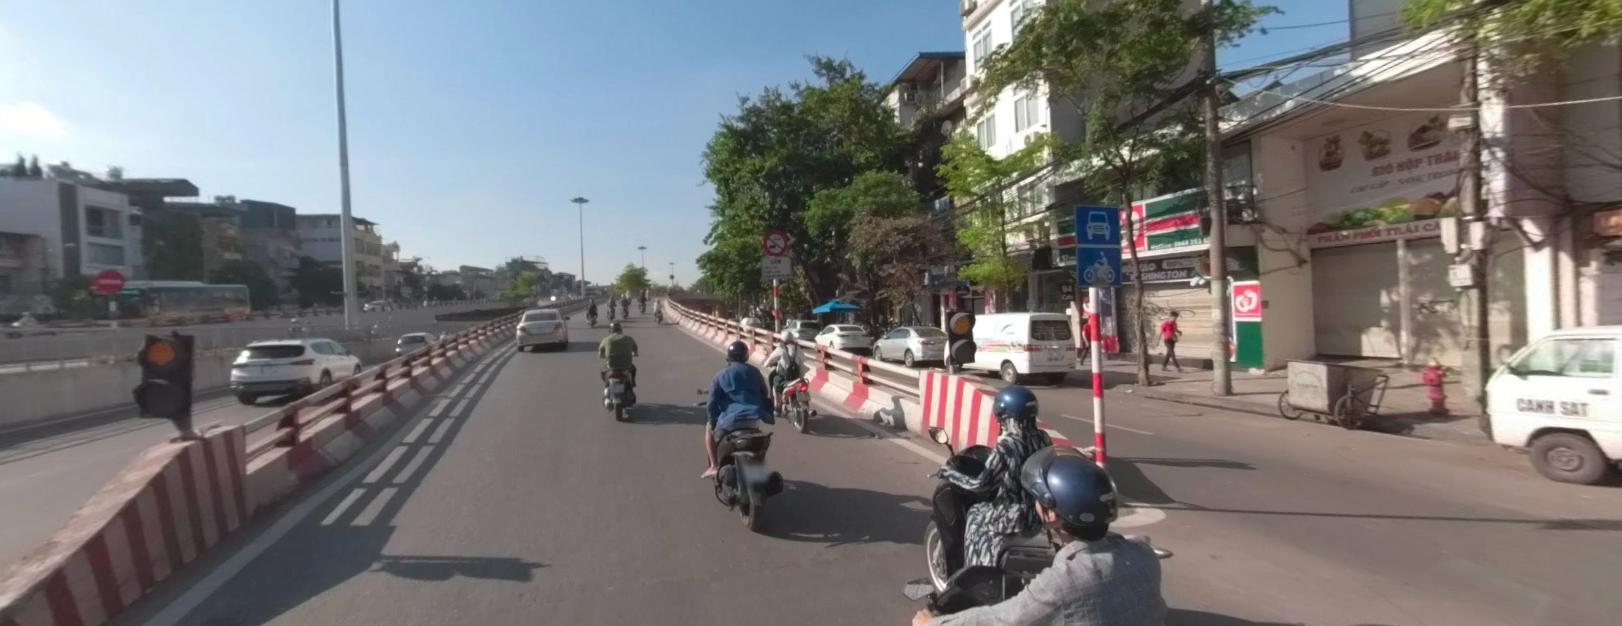Cam con lai: (763, 229, 787, 254)
